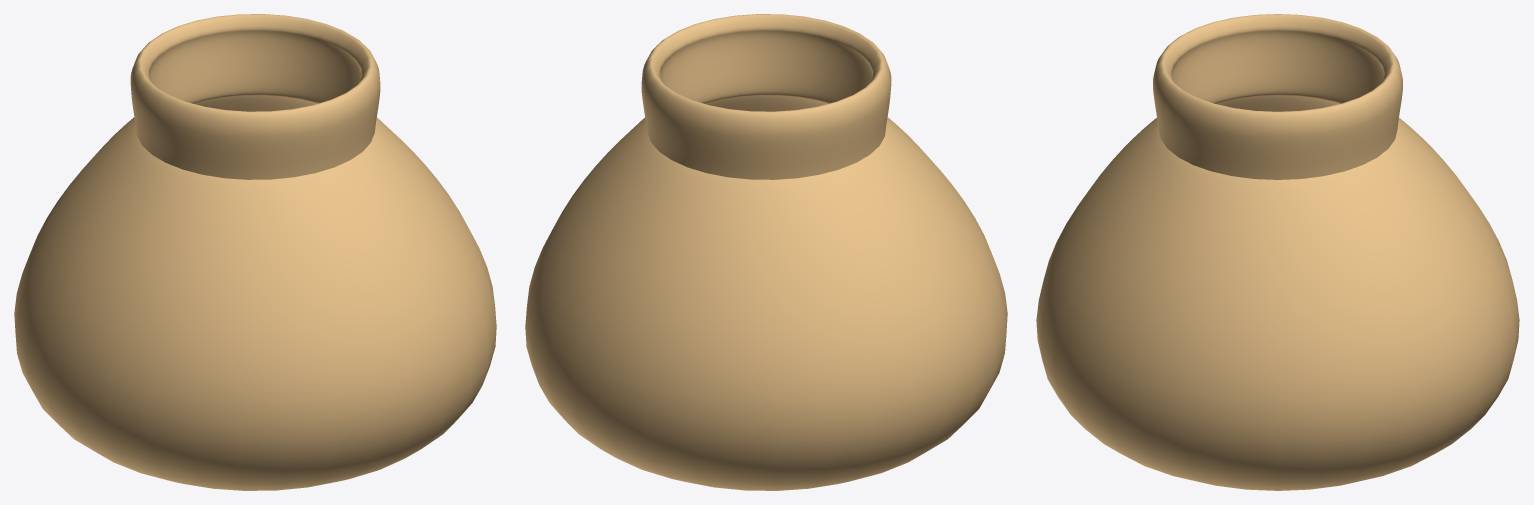
File: vase.fbx
3 renders of one model, left to right at view 1: azimuth 30°, elevation 25°; view 2: azimuth 150°, elevation 25°; view 3: azimuth 270°, elevation 25°, orthographic.
Parts seen in each view (by area): view 1: Bezier-Kurve.002; view 2: Bezier-Kurve.002; view 3: Bezier-Kurve.002.
Part boxes in pixels (x1,y1,x2,y2): Bezier-Kurve.002: (14, 14, 496, 490); Bezier-Kurve.002: (525, 14, 1007, 490); Bezier-Kurve.002: (1036, 14, 1519, 490).
Size of the model in its own units: 135 by 118 by 135.
